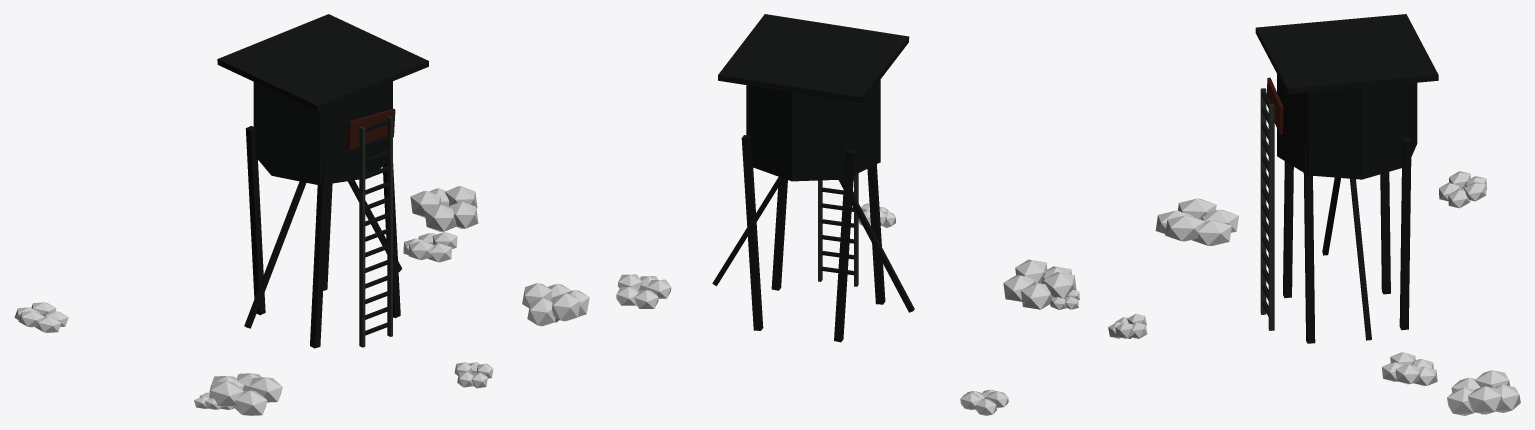
File: landmark_water_tower.obj
The picture shows the model from 3 angles, left to right: view 1: azimuth 30°, elevation 25°; view 2: azimuth 150°, elevation 25°; view 3: azimuth 270°, elevation 25°; orthographic projection. The views are drawn at different scales.
Visible parts, largest first — view 1: metalStructure_0004, tankInstances_0002, MilitaryStructure4, scrubInstances_001, scrubInstances_002, ironStructure_0014, ironStructure_0004, deadBrushInstances_0014, scrubInstances_000, redStructure_0003, ironStructure_0033, deadBrushInstances_0024 (+1 smaller); view 2: metalStructure_0004, tankInstances_0002, MilitaryStructure4, scrubInstances_002, scrubInstances_001, ironStructure_0024, ironStructure_0004, deadBrushInstances_0014, ironStructure_0014, ironStructure_0033, scrubInstances_000; view 3: tankInstances_0002, metalStructure_0004, MilitaryStructure4, scrubInstances_002, scrubInstances_001, ironStructure_0024, ironStructure_0033, deadBrushInstances_0014, ironStructure_0014, scrubInstances_000, ironStructure_0004, deadBrushInstances_0024 (+1 smaller).
Boxes of the visible parts, <box> form: metalStructure_0004: <box>217,14,428,111</box>; tankInstances_0002: <box>253,81,392,185</box>; MilitaryStructure4: <box>244,116,402,347</box>; scrubInstances_001: <box>410,186,478,231</box>; scrubInstances_002: <box>209,373,282,415</box>; ironStructure_0014: <box>310,156,328,348</box>; ironStructure_0004: <box>245,126,265,315</box>; deadBrushInstances_0014: <box>403,232,457,262</box>; scrubInstances_000: <box>14,302,68,332</box>; redStructure_0003: <box>347,108,395,150</box>; ironStructure_0033: <box>382,163,400,318</box>; deadBrushInstances_0024: <box>454,362,493,388</box>; metalStructure_0004: <box>718,14,909,102</box>; tankInstances_0002: <box>746,80,880,181</box>; MilitaryStructure4: <box>712,173,914,312</box>; scrubInstances_002: <box>1003,259,1076,309</box>; scrubInstances_001: <box>522,283,589,326</box>; ironStructure_0024: <box>741,135,763,330</box>; ironStructure_0004: <box>834,149,855,342</box>; deadBrushInstances_0014: <box>616,274,671,308</box>; ironStructure_0014: <box>867,164,885,304</box>; ironStructure_0033: <box>771,178,787,290</box>; scrubInstances_000: <box>960,389,1008,415</box>; tankInstances_0002: <box>1277,74,1417,179</box>; metalStructure_0004: <box>1255,14,1438,94</box>; MilitaryStructure4: <box>1260,88,1371,340</box>; scrubInstances_002: <box>1155,198,1238,245</box>; scrubInstances_001: <box>1447,370,1520,415</box>; ironStructure_0024: <box>1399,137,1411,330</box>; ironStructure_0033: <box>1303,144,1315,343</box>; deadBrushInstances_0014: <box>1382,352,1437,386</box>; ironStructure_0014: <box>1283,161,1293,298</box>; scrubInstances_000: <box>1439,171,1486,208</box>; ironStructure_0004: <box>1380,172,1390,294</box>; deadBrushInstances_0024: <box>1108,313,1147,338</box>.
Size of the model in its own units: 12.91 by 6.94 by 9.64.
